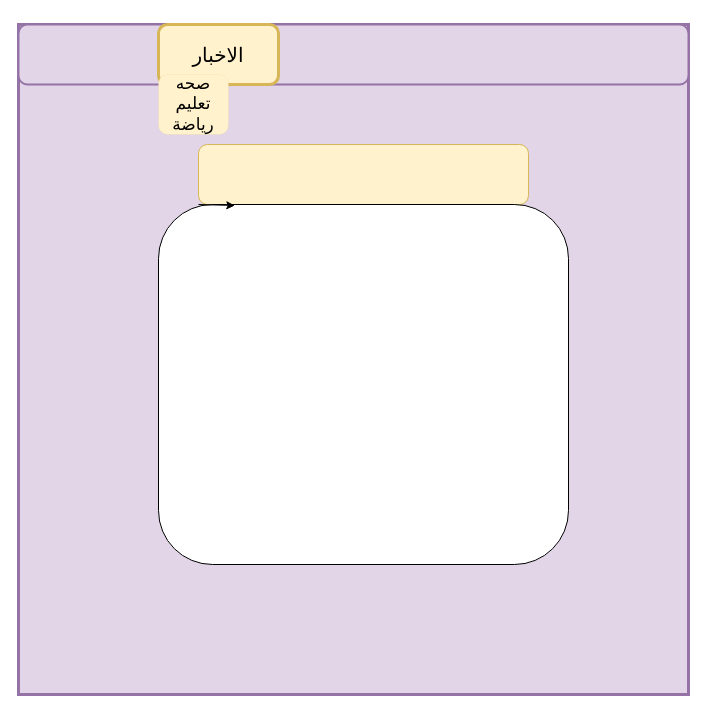
Image size: 707x713. Some labels were removed from this diagram. Here are the shapes that lost their labels. From the top down, the centre of each, then its label:
At (x=363, y=174): "البحث".
At (x=363, y=384): "المحتوي".
